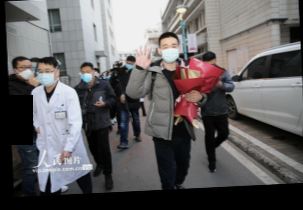with_mask: (159, 41, 180, 64), (36, 65, 56, 85), (17, 63, 34, 79), (79, 68, 94, 83), (124, 58, 134, 70)
